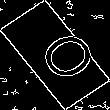O_SW: (18, 23, 92, 87)
